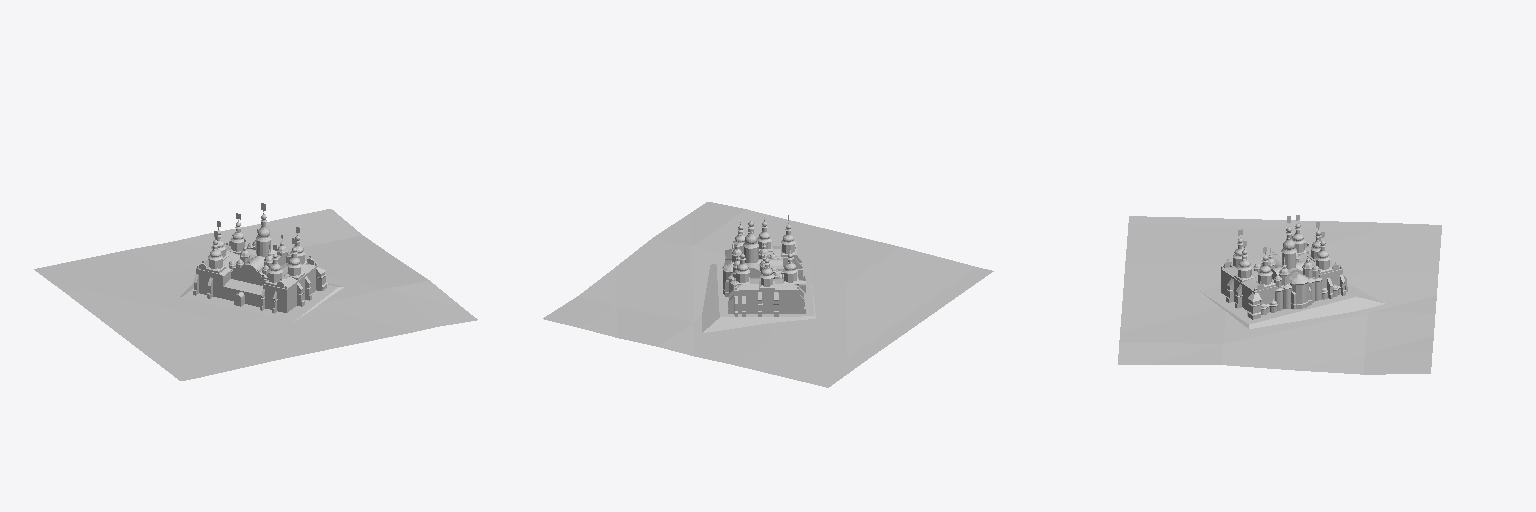
Rendered from nedim-nazočan.obj.
3 renders of one model, left to right at view 1: azimuth 30°, elevation 25°; view 2: azimuth 150°, elevation 25°; view 3: azimuth 270°, elevation 25°, orthographic.
Parts seen in each view (by area): view 1: Mesh328 Google_Earth_Terrain Model, Mesh1 Group2 Group1 Model, Mesh177 Component_1_1 Group1 Model, Mesh324 Component_1_2 Group1 Model; view 2: Mesh328 Google_Earth_Terrain Model, Mesh1 Group2 Group1 Model, Mesh324 Component_1_2 Group1 Model; view 3: Mesh328 Google_Earth_Terrain Model, Mesh1 Group2 Group1 Model.
Boxes of the visible parts, x1=… form: Mesh328 Google_Earth_Terrain Model: x1=34, y1=209, x2=477, y2=380; Mesh1 Group2 Group1 Model: x1=179, y1=283, x2=343, y2=321; Mesh177 Component_1_1 Group1 Model: x1=242, y1=263, x2=317, y2=312; Mesh324 Component_1_2 Group1 Model: x1=196, y1=259, x2=247, y2=297; Mesh328 Google_Earth_Terrain Model: x1=543, y1=202, x2=993, y2=387; Mesh1 Group2 Group1 Model: x1=702, y1=263, x2=815, y2=332; Mesh324 Component_1_2 Group1 Model: x1=734, y1=278, x2=799, y2=313; Mesh328 Google_Earth_Terrain Model: x1=1118, y1=216, x2=1441, y2=374; Mesh1 Group2 Group1 Model: x1=1200, y1=284, x2=1384, y2=328.
Bounding box in the file's own units: 187 × 54.79 × 175.